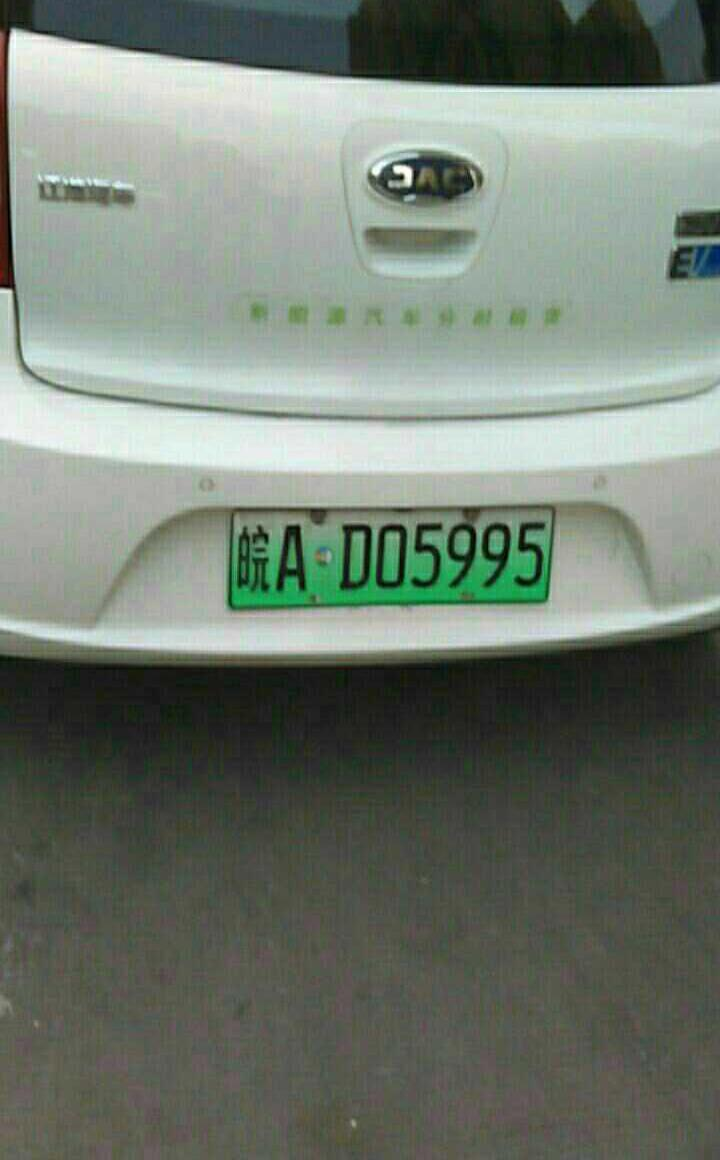car_id: (224, 504, 554, 606)
